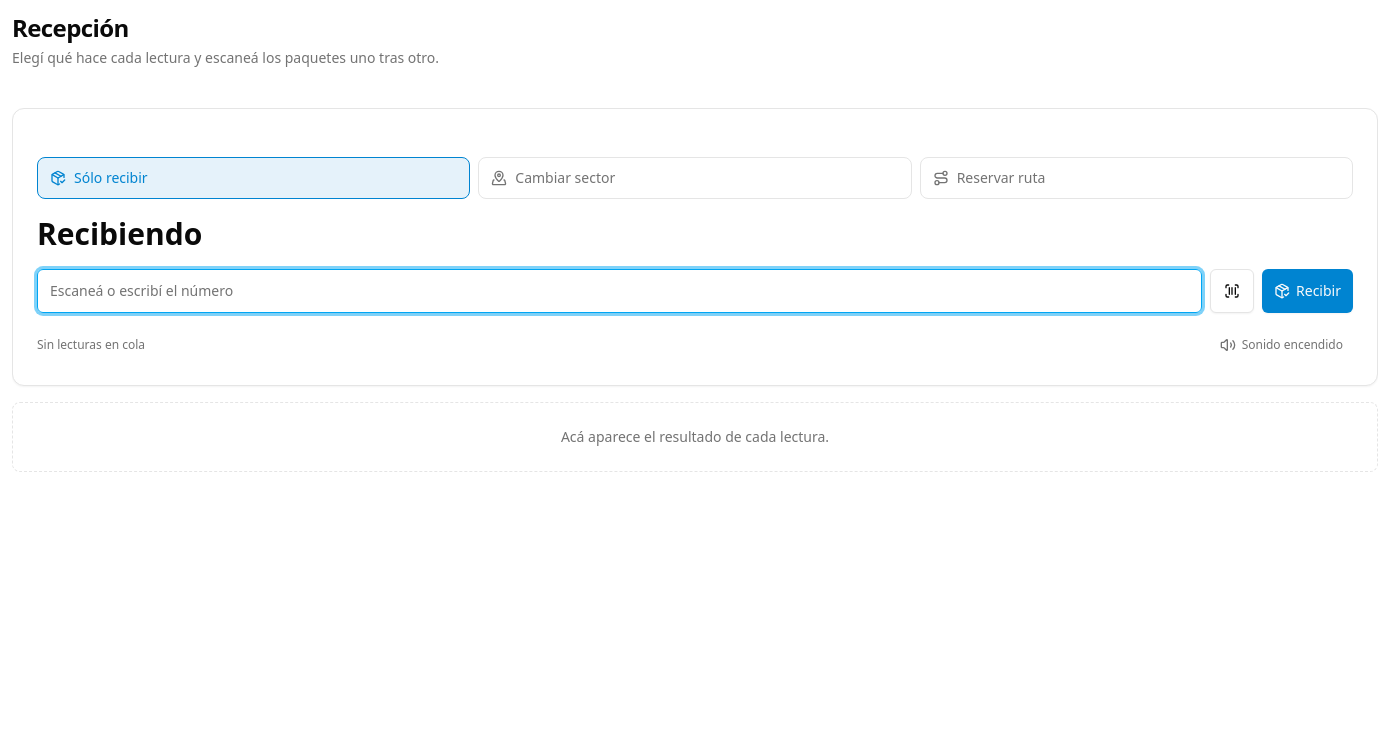
Scenario: Recepción — la cola de lecturas › dos lecturas seguidas, con la primera todavía esperando al backend: se procesan las dos, en orden
In the field named "Número, remito o código de barras del envío": coordinates (620, 290) [37,268,1202,312], type "000000001-1"
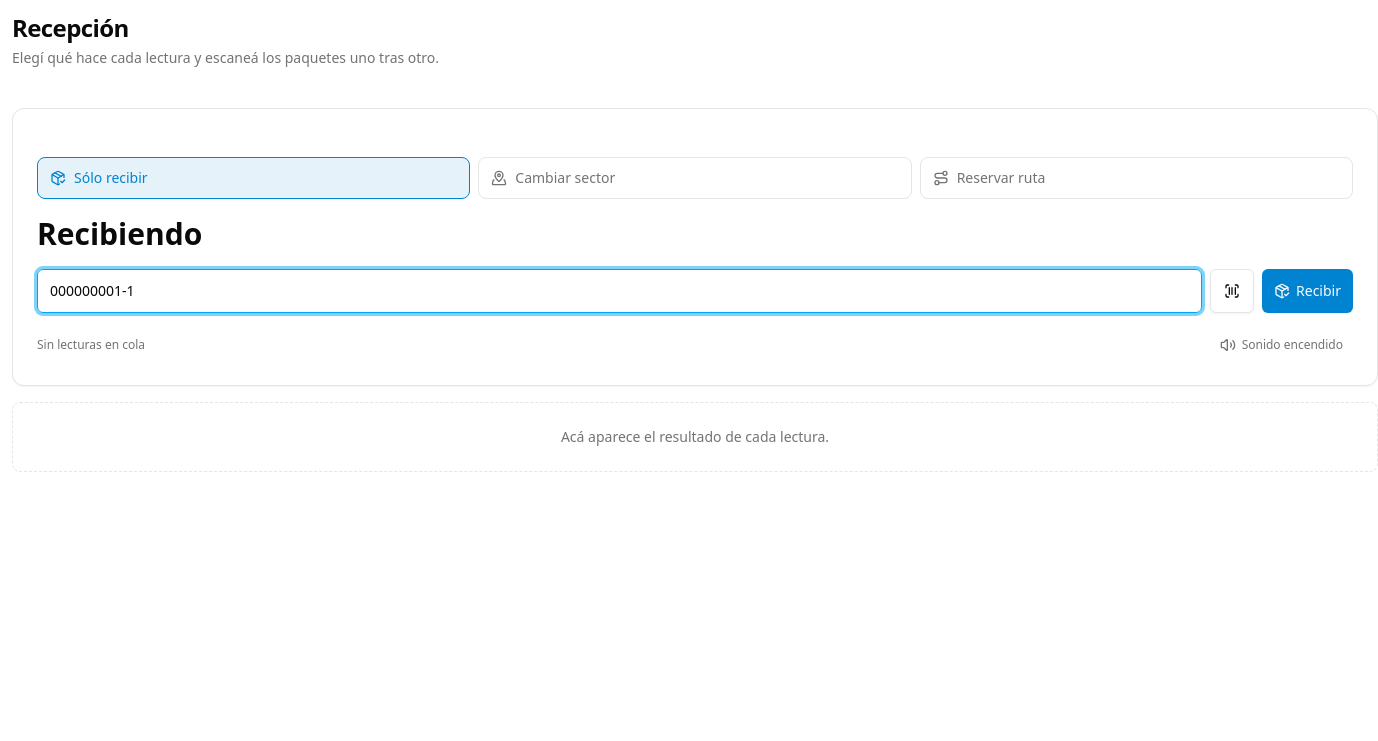
Press Enter in the field named "Número, remito o código de barras del envío", box [37,268,1202,312]
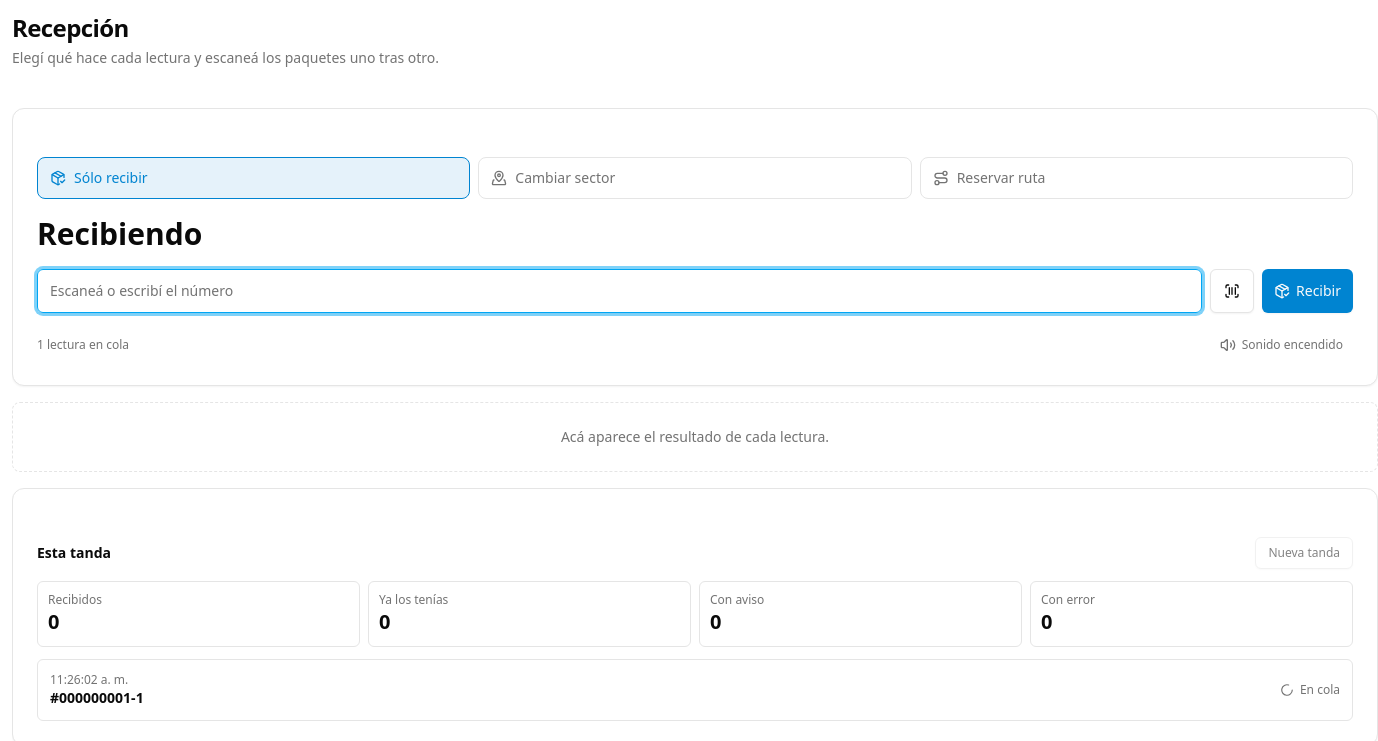
In the field named "Número, remito o código de barras del envío": coordinates (620, 290) [37,268,1202,312], type "000000002-2"
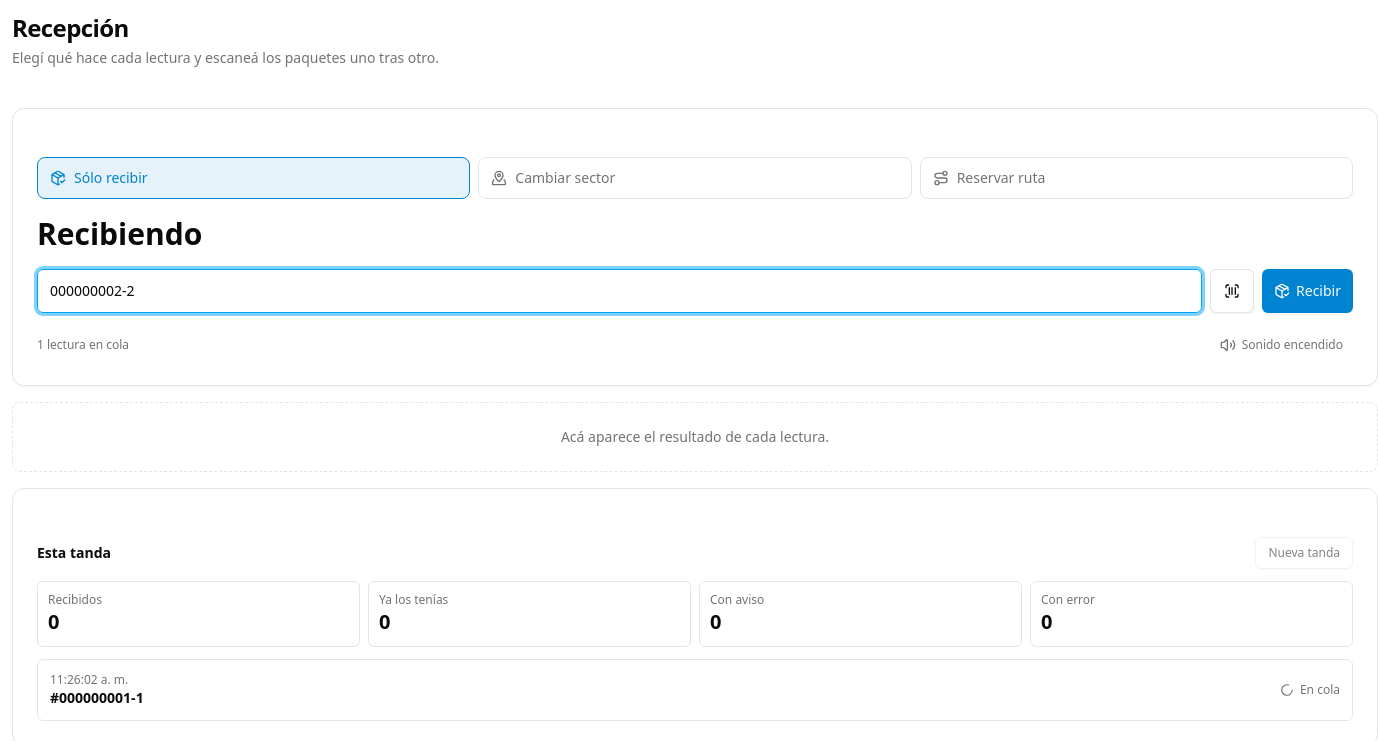
Press Enter in the field named "Número, remito o código de barras del envío", box [37,268,1202,312]
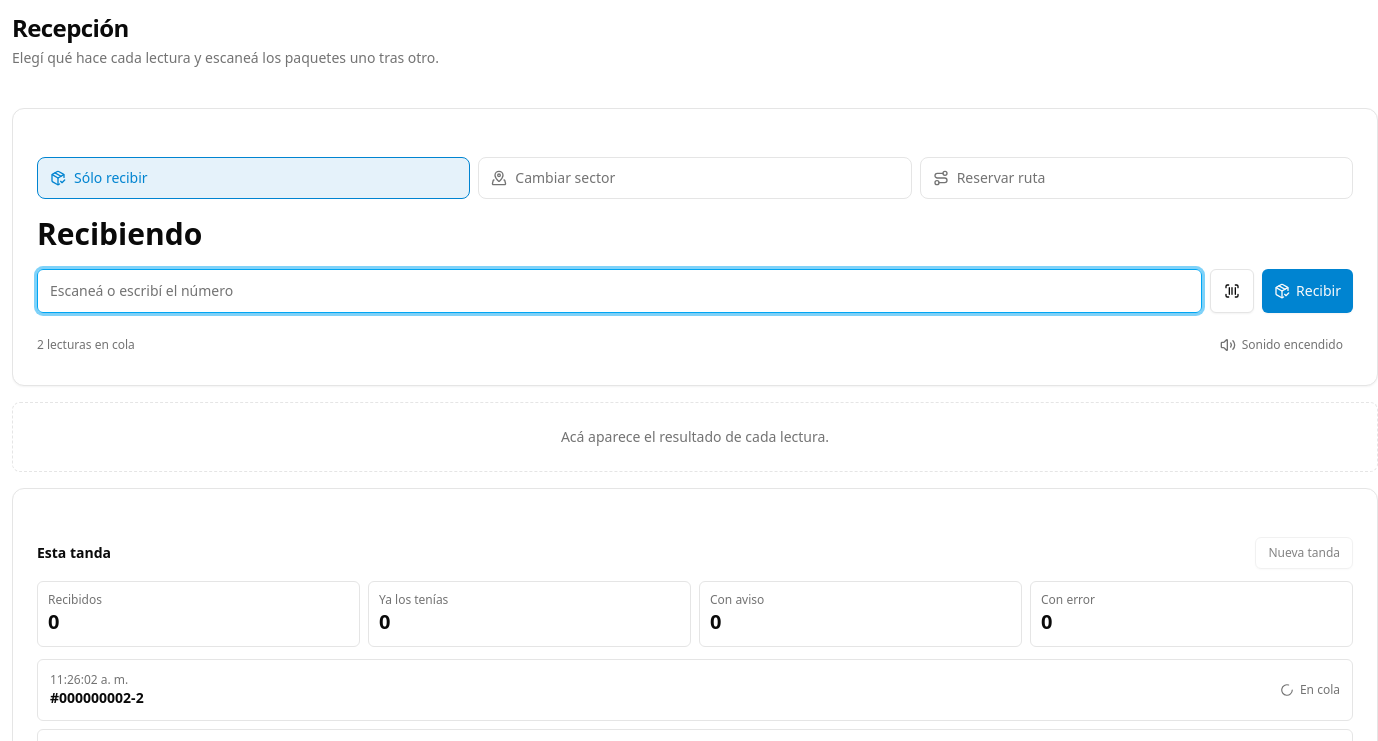
In the field named "Número, remito o código de barras del envío": coordinates (620, 290) [37,268,1202,312], type "000000003-3"
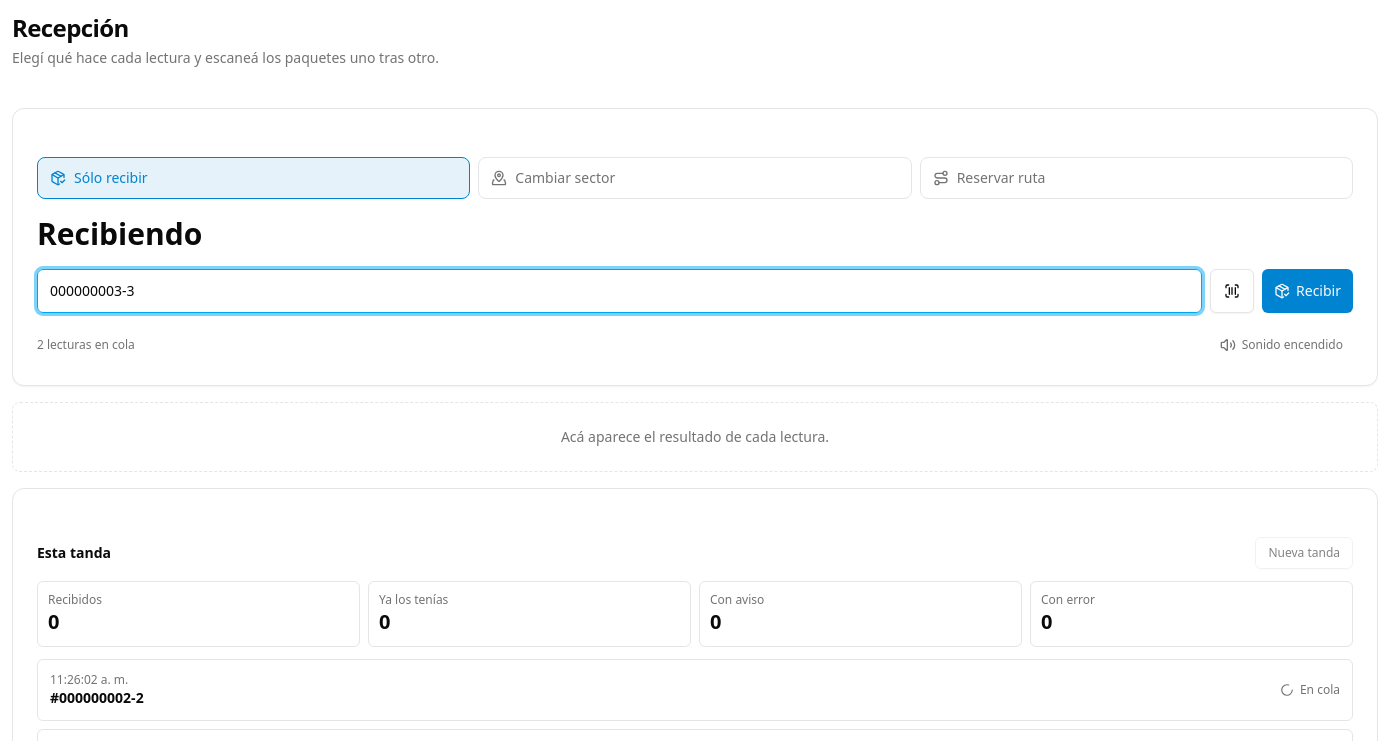
Press Enter in the field named "Número, remito o código de barras del envío", box [37,268,1202,312]
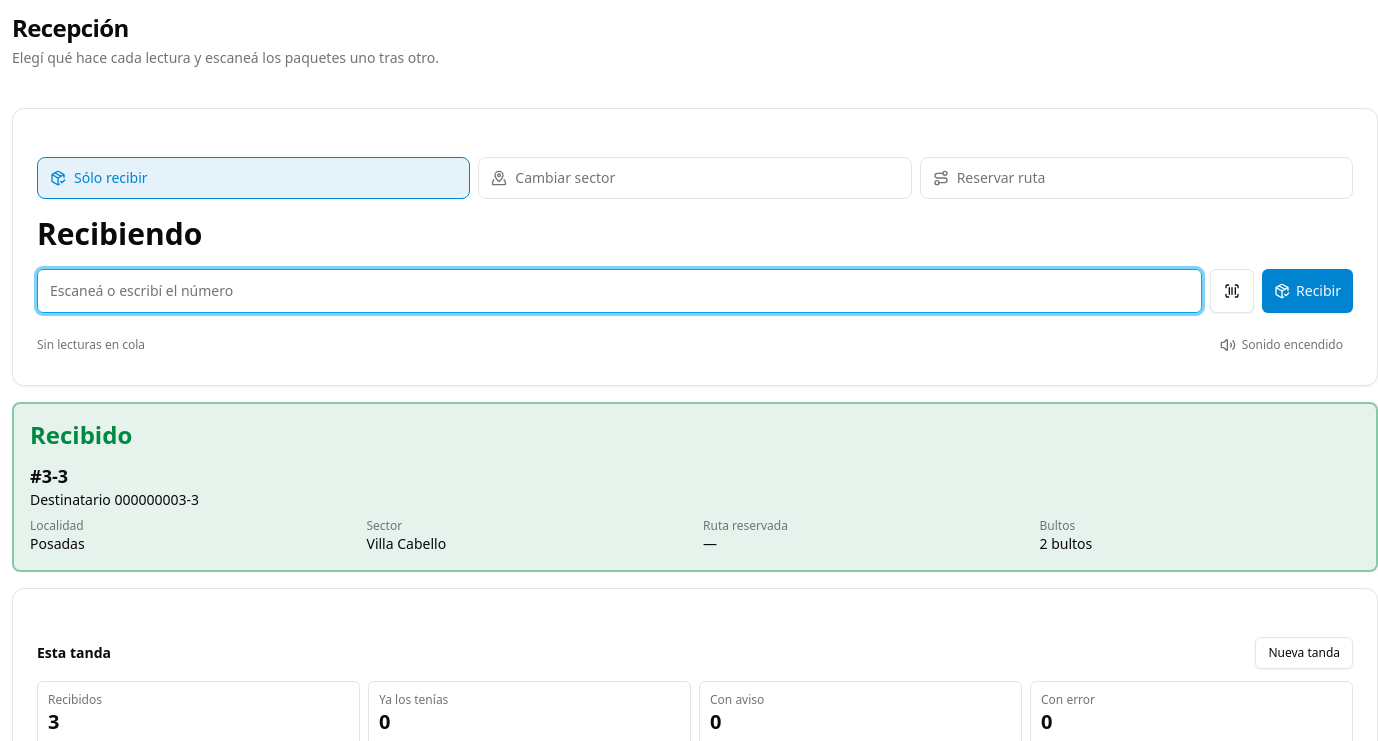
Expected: the number of list items is 3
Expected: the text "Sin lecturas en cola" is shown, [37,336,145,352]
Expected: the message shows "Destinatario 000000003-3", [30,490,199,508]
